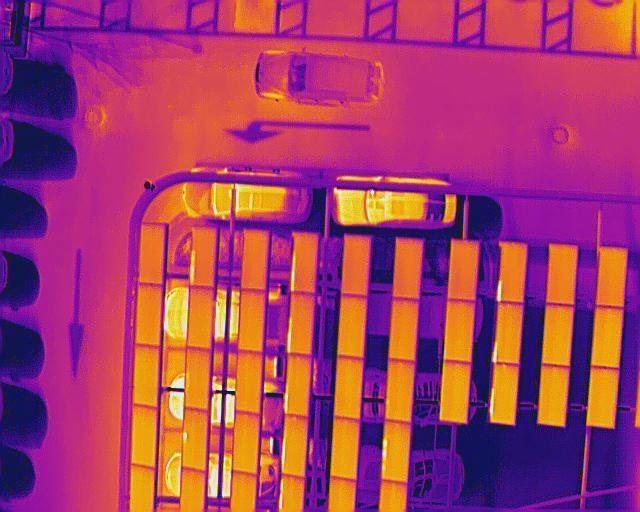Cell: (182, 408, 207, 470)
No-Anomaly: (542, 304, 573, 366), (546, 243, 576, 305), (448, 240, 479, 300), (389, 298, 419, 359), (588, 366, 618, 426), (593, 305, 622, 367), (445, 301, 474, 362), (386, 359, 414, 422), (135, 283, 163, 346), (440, 363, 470, 421), (394, 239, 423, 298), (539, 365, 567, 424), (332, 416, 357, 481), (343, 235, 370, 295), (239, 290, 265, 352), (597, 248, 624, 307), (241, 230, 268, 289), (236, 350, 261, 413), (188, 286, 213, 349), (233, 412, 258, 474), (336, 356, 360, 419), (185, 347, 209, 410), (340, 295, 364, 358), (140, 223, 164, 285), (132, 406, 156, 467), (135, 344, 158, 405)
Unclassified: (493, 303, 523, 364), (497, 243, 527, 303), (382, 420, 411, 481), (490, 364, 518, 424), (190, 228, 217, 287), (287, 294, 313, 355), (283, 355, 309, 415), (291, 233, 316, 293), (282, 415, 306, 475)
